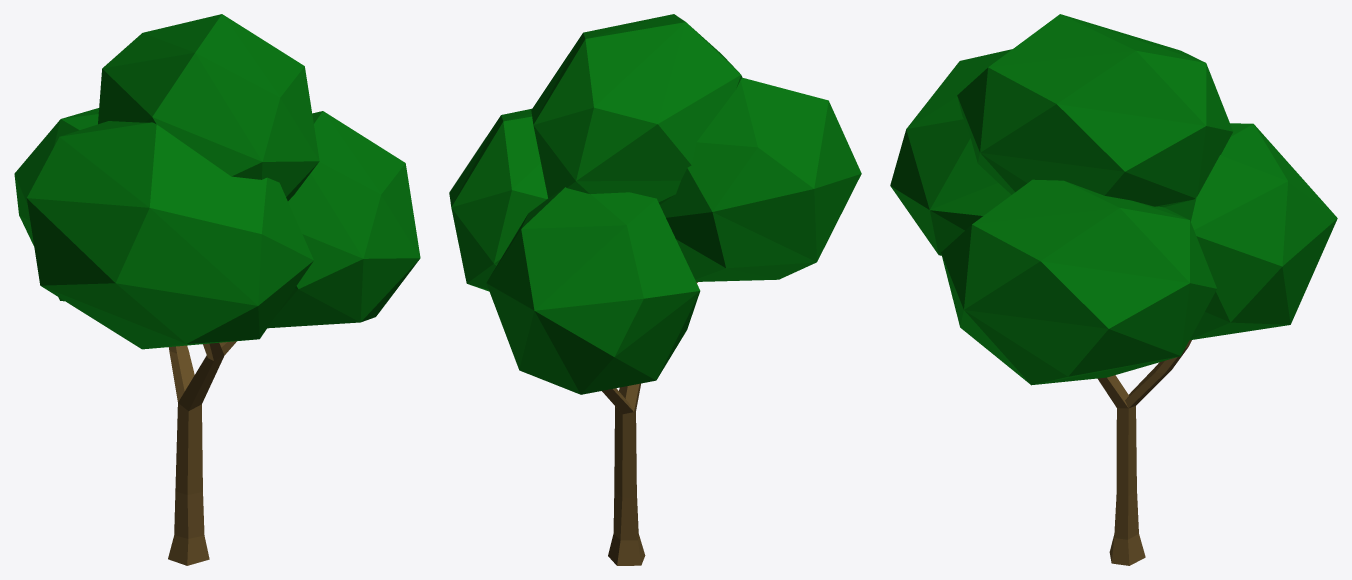
Rendered from Tree-01-B.fbx.
3 views of the same model, side by side, from view 1: azimuth 30°, elevation 25°; view 2: azimuth 150°, elevation 25°; view 3: azimuth 270°, elevation 25° (orthographic). The views are drawn at different scales.
Parts seen in each view (by area): view 1: Trees-01; view 2: Trees-01; view 3: Trees-01.
Part boxes in pixels (x1,y1,x2,y2): Trees-01: (14,14,420,565); Trees-01: (449,14,861,565); Trees-01: (890,14,1337,565).
Size of what is drawn, in the model's own units: 6.7 by 9.28 by 7.1.
